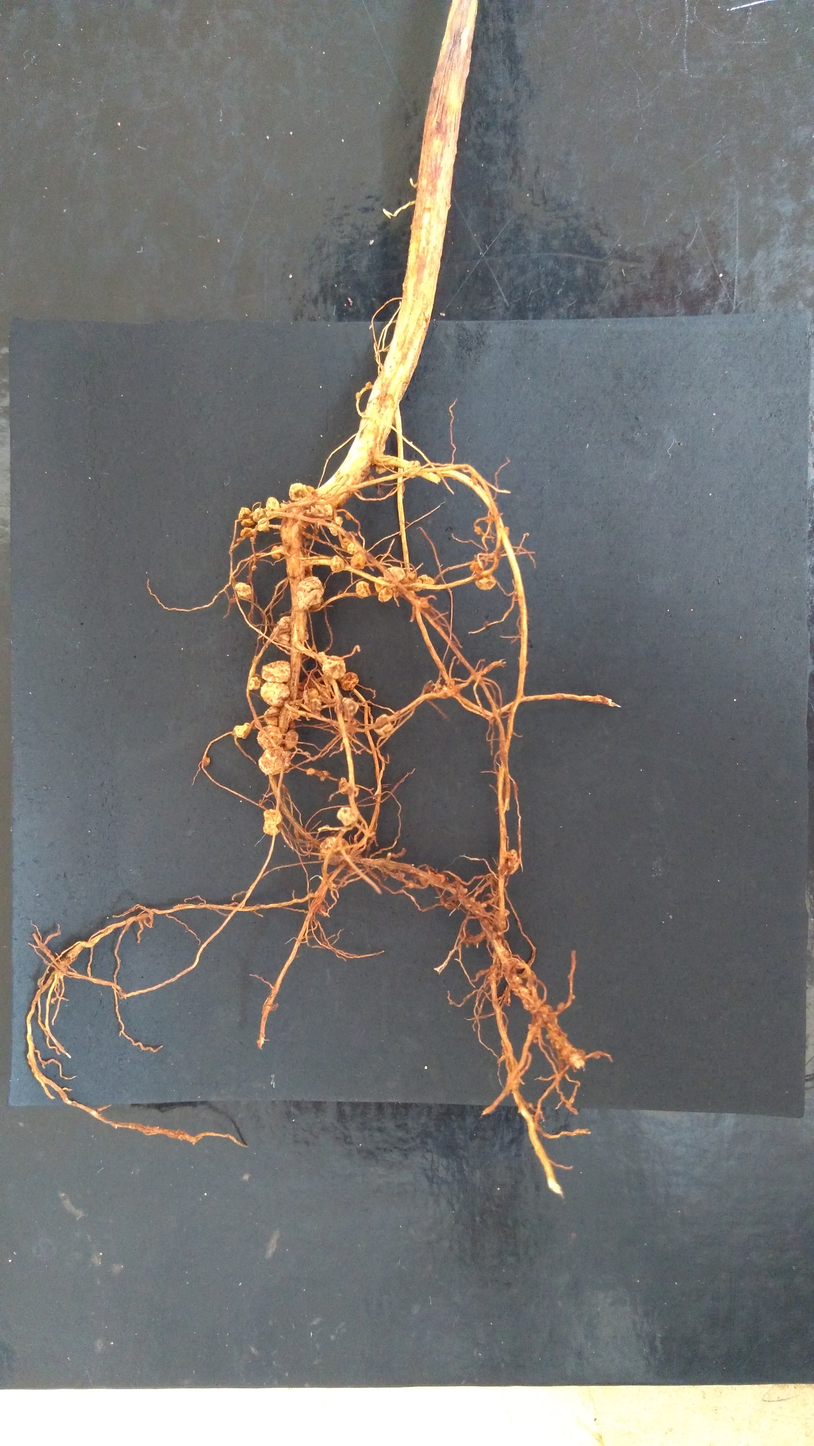nodule: (272, 616, 309, 649), (295, 576, 325, 612), (319, 834, 351, 866), (258, 746, 291, 775), (260, 681, 291, 707), (261, 660, 292, 684), (257, 724, 284, 750), (304, 499, 333, 521), (334, 696, 359, 721), (302, 687, 322, 717), (262, 809, 284, 836), (322, 655, 346, 679), (288, 482, 317, 501), (296, 676, 318, 700), (374, 576, 394, 602), (374, 713, 395, 737), (475, 569, 497, 591), (341, 531, 362, 554), (400, 571, 423, 592), (336, 806, 360, 826), (338, 776, 359, 798), (265, 496, 285, 519), (419, 870, 446, 887), (506, 848, 521, 875), (383, 566, 406, 583), (492, 907, 508, 931), (340, 671, 359, 691), (375, 454, 393, 475), (263, 706, 281, 727), (233, 581, 252, 600), (238, 506, 255, 527), (283, 728, 298, 751), (403, 460, 421, 479), (317, 682, 332, 704), (233, 722, 251, 740), (417, 574, 435, 591), (330, 554, 346, 573), (350, 551, 366, 569), (301, 550, 314, 572), (329, 516, 343, 536), (252, 506, 268, 523), (355, 581, 371, 598), (248, 673, 261, 691), (342, 718, 357, 733), (469, 559, 484, 573), (300, 536, 314, 550), (257, 518, 270, 532), (464, 896, 475, 910), (271, 545, 281, 560), (240, 526, 253, 537), (419, 596, 430, 609), (374, 484, 385, 497), (315, 904, 327, 915), (364, 475, 377, 485), (423, 681, 434, 692), (320, 770, 330, 782), (470, 473, 479, 486), (459, 884, 470, 894), (444, 678, 455, 688), (557, 1002, 568, 1011), (474, 525, 483, 535), (288, 718, 295, 730), (306, 767, 315, 776), (397, 871, 405, 881), (503, 525, 510, 536), (203, 756, 210, 767), (345, 512, 353, 521), (354, 392, 361, 400), (305, 531, 312, 539), (252, 656, 259, 664), (407, 880, 414, 888), (484, 620, 490, 628), (365, 381, 371, 388), (442, 684, 448, 691), (249, 536, 255, 542), (235, 537, 242, 542), (252, 565, 257, 571), (481, 903, 487, 908)
